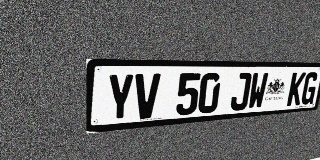0: (197, 73, 221, 114)
5: (176, 73, 201, 116)
G: (300, 72, 319, 105)
J: (229, 73, 252, 111)
K: (286, 72, 306, 106)
V: (133, 73, 161, 120)
W: (247, 73, 269, 110)
Y: (106, 74, 135, 122)
